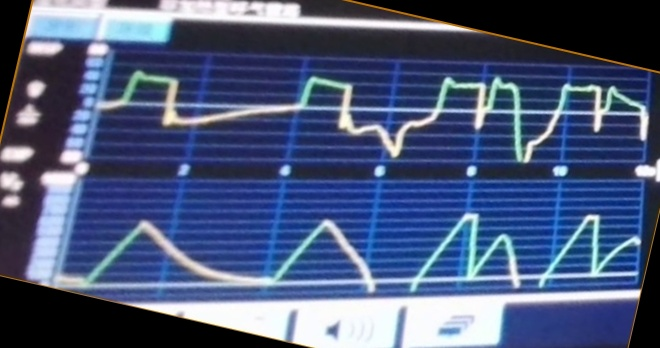Double_Triggering Flow: (110, 70, 651, 162)
Double_Triggering Volume: (61, 211, 639, 290)
